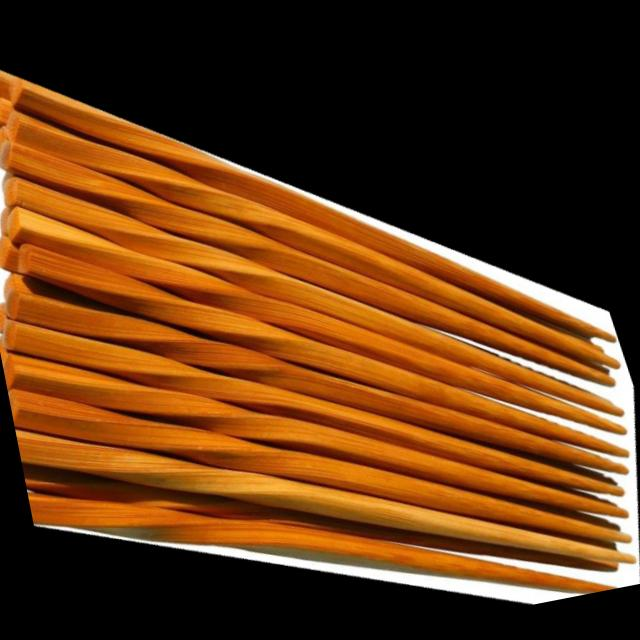others: (0, 59, 640, 603)
